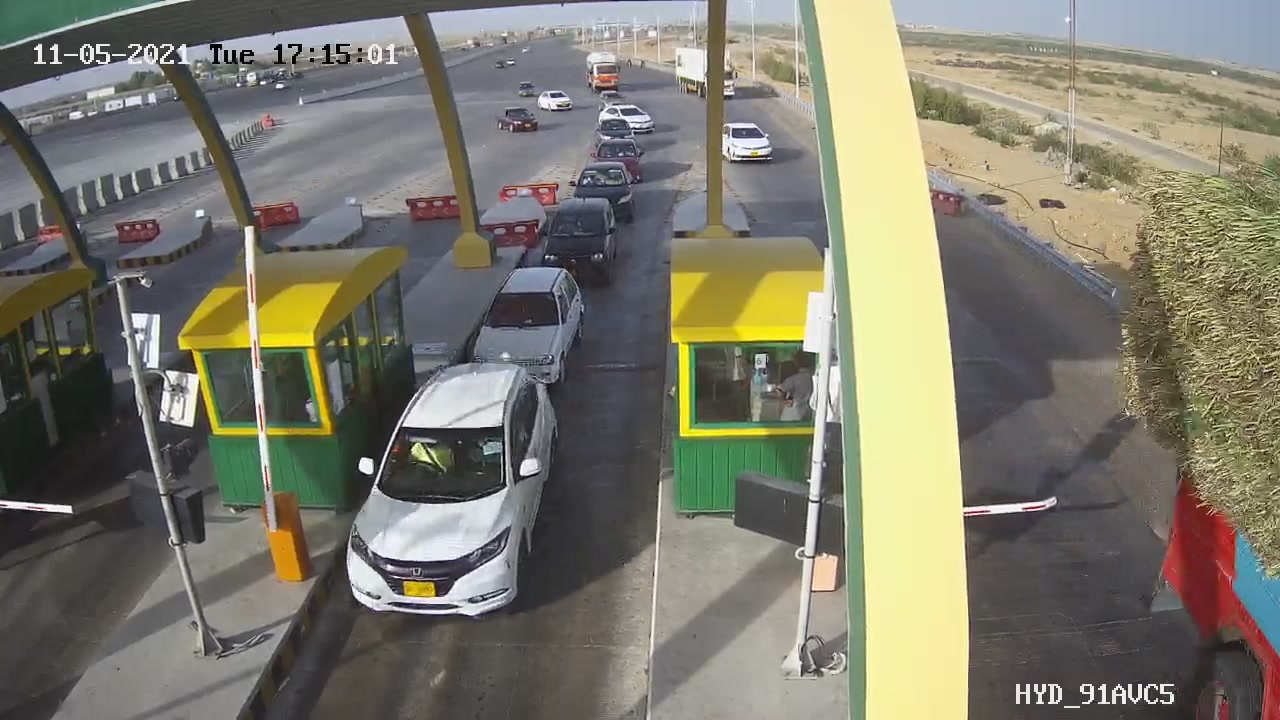F1: (331, 349, 582, 634), (452, 251, 604, 391), (525, 188, 640, 298)
